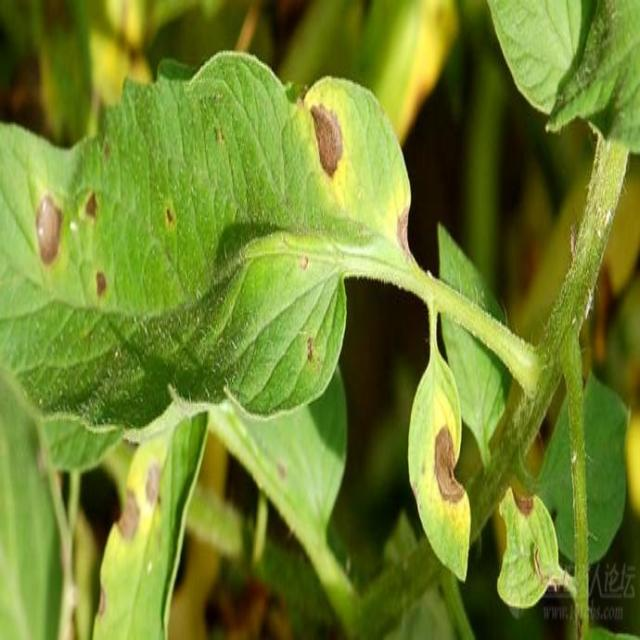Early_blight: (431, 419, 470, 508), (307, 103, 348, 181), (31, 191, 63, 269), (113, 487, 141, 544), (391, 201, 414, 254), (142, 462, 164, 509), (510, 487, 540, 519), (78, 191, 101, 220), (92, 270, 110, 301)
